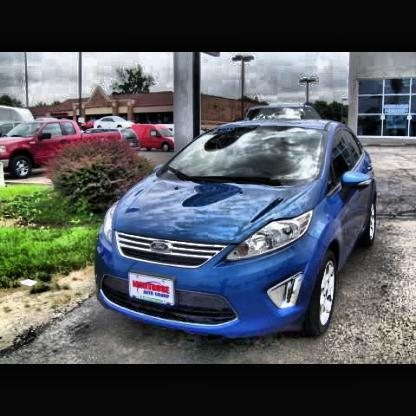Ford Fiesta Sedan 2012: (97, 120, 381, 341)
